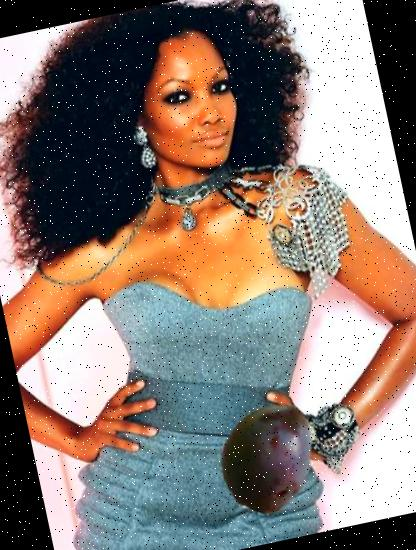Plum: (201, 389, 334, 522)
